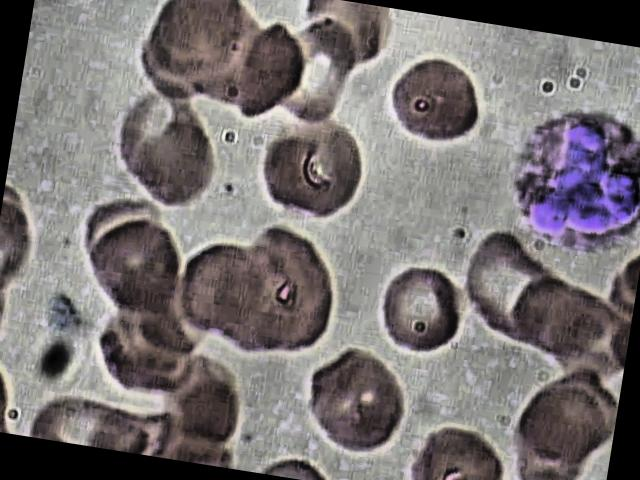Platelets: (42, 287, 96, 337)
RBC: (293, 336, 418, 466), (447, 223, 564, 348), (255, 104, 372, 226), (76, 209, 192, 331), (169, 234, 285, 350), (118, 112, 227, 220), (378, 51, 492, 154), (502, 269, 615, 372), (362, 260, 474, 362), (511, 376, 618, 470), (147, 0, 256, 81), (403, 416, 517, 480), (172, 374, 248, 452)
WBC: (481, 93, 640, 266)
